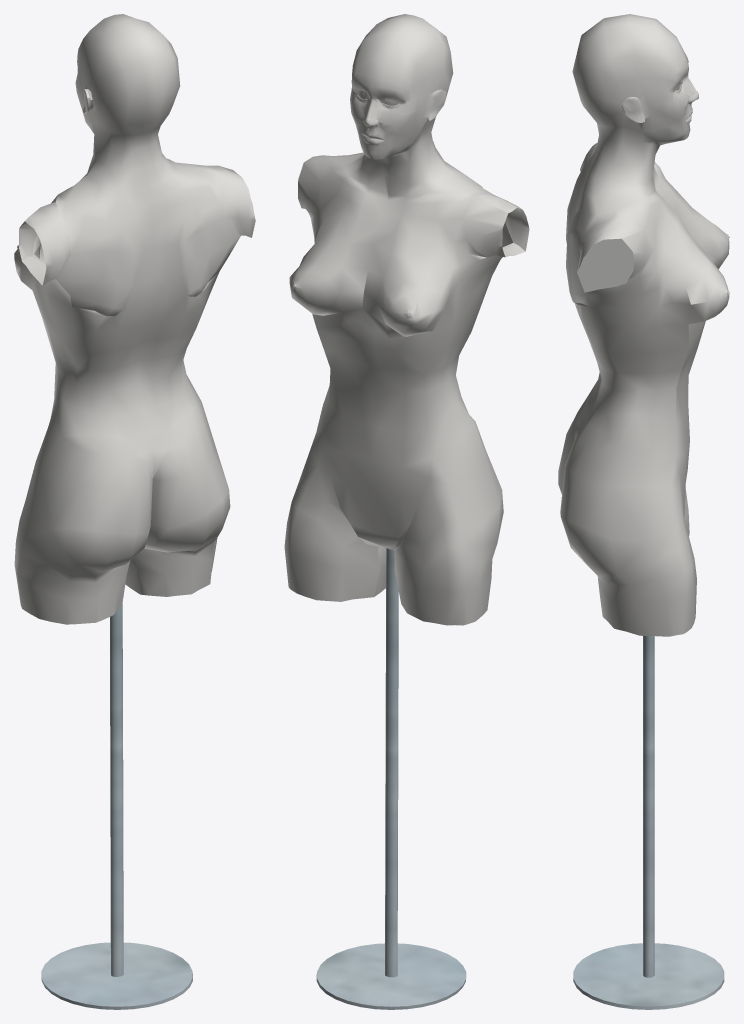
File: store_mannequin.glb
3 views of the same model, side by side, from view 1: azimuth 30°, elevation 25°; view 2: azimuth 150°, elevation 25°; view 3: azimuth 270°, elevation 25° (orthographic).
Visible parts, largest first — view 1: MOB-002; view 2: MOB-002; view 3: MOB-002.
Boxes of the visible parts, x1,y1,x2,y2 form: MOB-002: (14,14,255,1009); MOB-002: (284,14,529,1009); MOB-002: (558,14,729,1009).
Size of the model in its own units: 0.3553 by 1.58 by 0.2547.
Materials: 2 (1 with a texture image).
